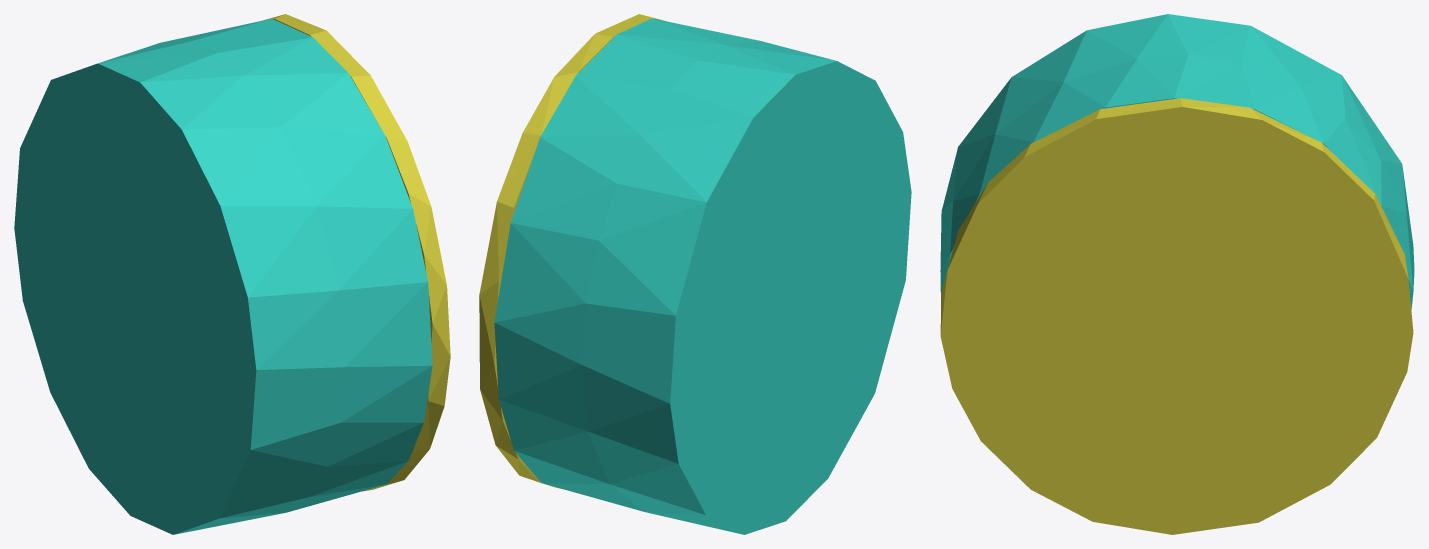
Rendered from wrist_rot_link_dexter_collision.obj.
The picture shows the model from 3 angles, left to right: view 1: azimuth 30°, elevation 25°; view 2: azimuth 150°, elevation 25°; view 3: azimuth 270°, elevation 25°; orthographic projection. The views are drawn at different scales.
Visible parts, largest first — view 1: Body1, Body2; view 2: Body1, Body2; view 3: Body2, Body1.
Part boxes in pixels (left/top/right/bottom): Body1: left=14, top=18, right=432, bottom=534; Body2: left=264, top=14, right=450, bottom=491; Body1: left=494, top=18, right=911, bottom=534; Body2: left=479, top=14, right=665, bottom=489; Body2: left=940, top=98, right=1413, bottom=534; Body1: left=940, top=14, right=1414, bottom=309.
Bounding box in the file's own units: 5.5 × 11.97 × 11.95.
